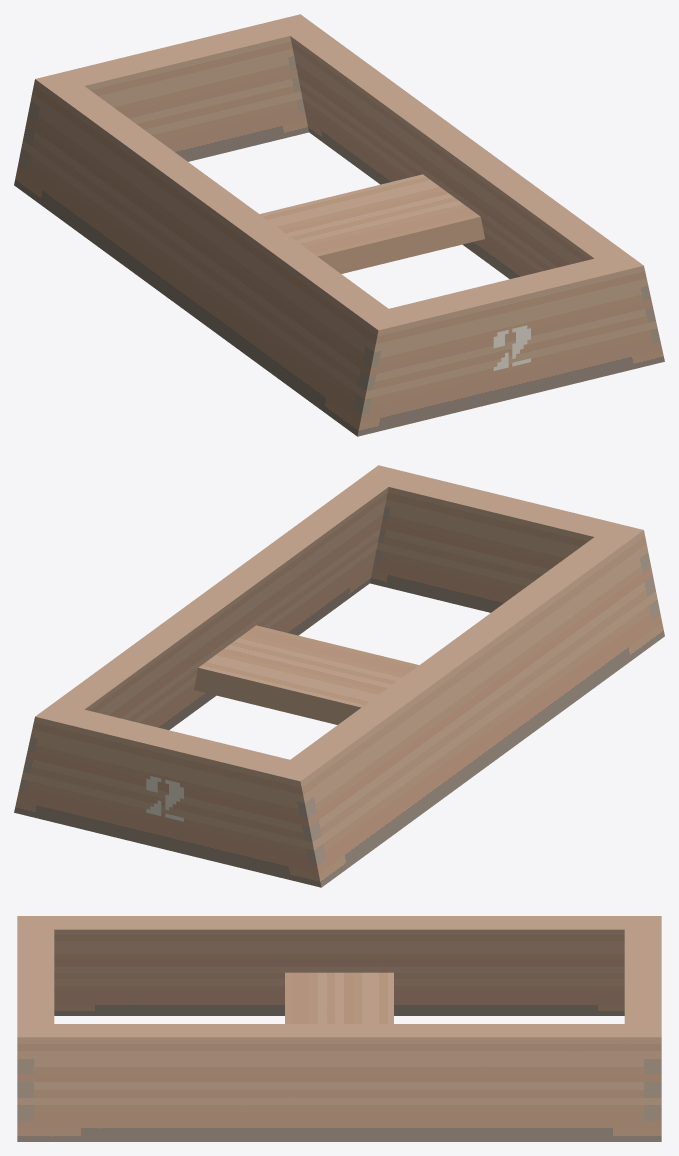
File: 0078_2nd_Step.glb
The picture shows the model from 3 angles, top to bottom: view 1: azimuth 30°, elevation 25°; view 2: azimuth 150°, elevation 25°; view 3: azimuth 270°, elevation 25°; orthographic projection. The views are drawn at different scales.
Visible parts, largest first — view 1: part_0; view 2: part_0; view 3: part_0.
Part boxes in pixels (<box>): part_0: <box>14,14,664,436</box>; part_0: <box>14,465,664,887</box>; part_0: <box>17,916,661,1141</box>.
Bounding box in the file's own units: 0.4135 × 0.13 × 0.8087.
1 material, 1 textured.
